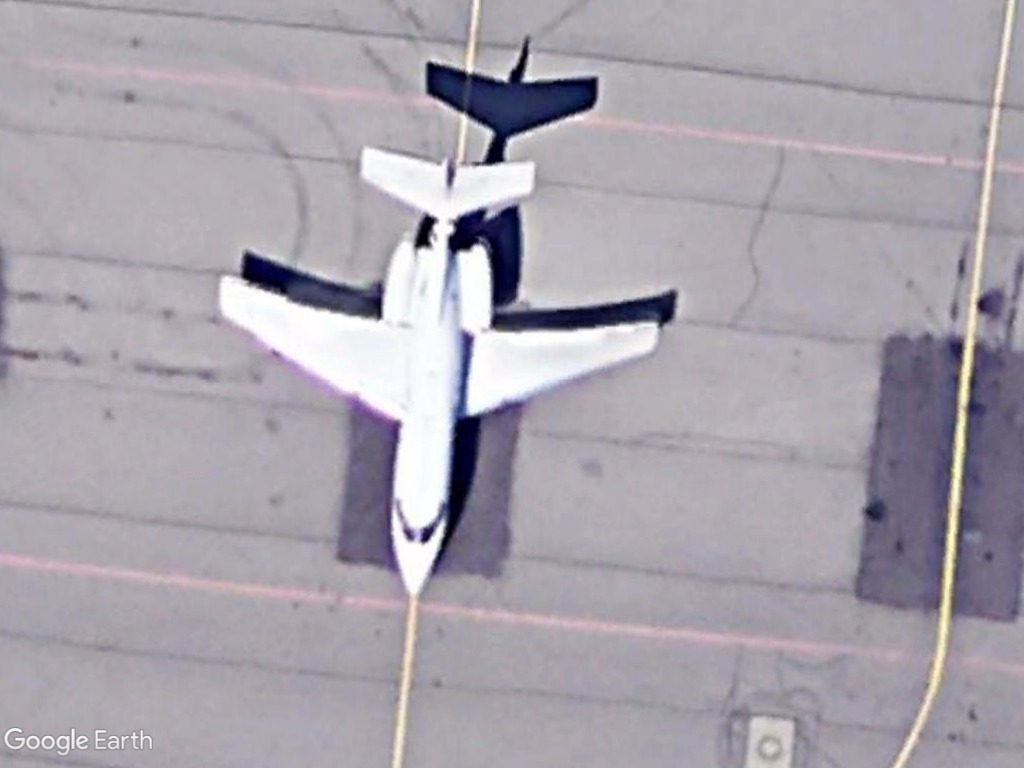chartered: (211, 138, 670, 610)
